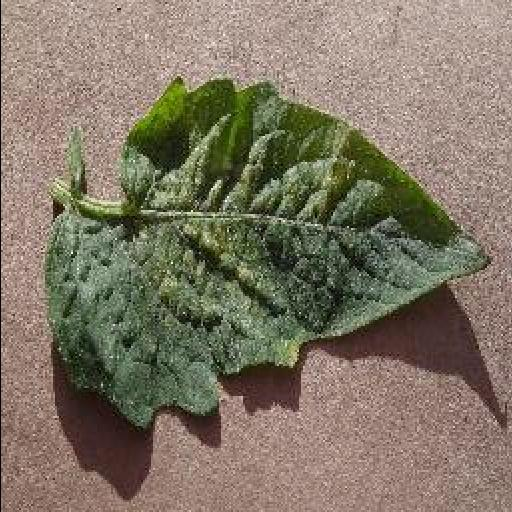disease_tomato: (45, 78, 495, 424)
